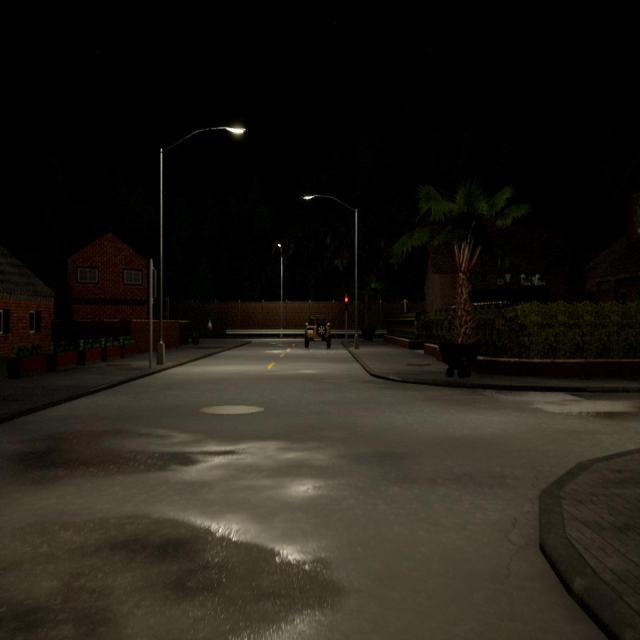Vehicle: (304, 317, 330, 348)
traffic_light: (152, 269, 158, 298), (344, 296, 349, 312)
